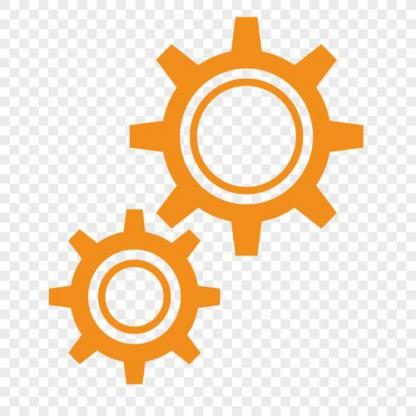FOD: (127, 12, 368, 259), (45, 204, 223, 390)
